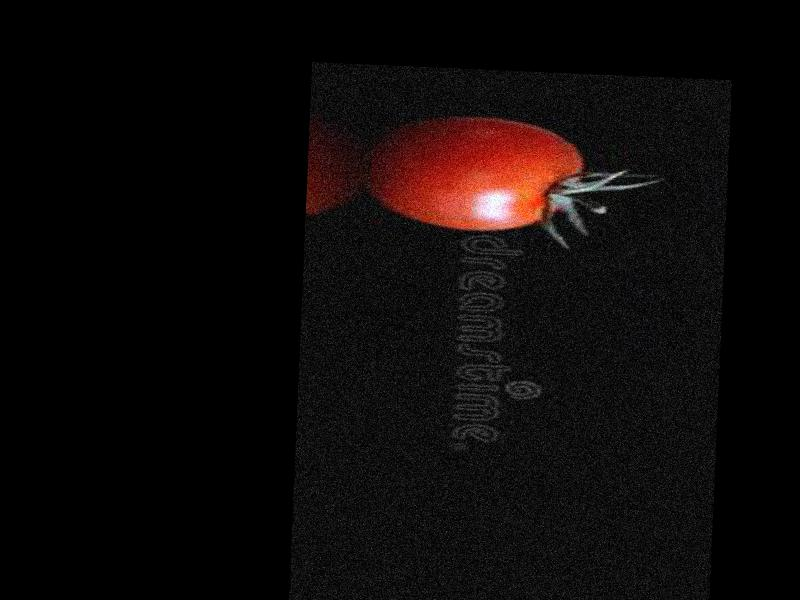Tomato: (368, 113, 586, 235)
